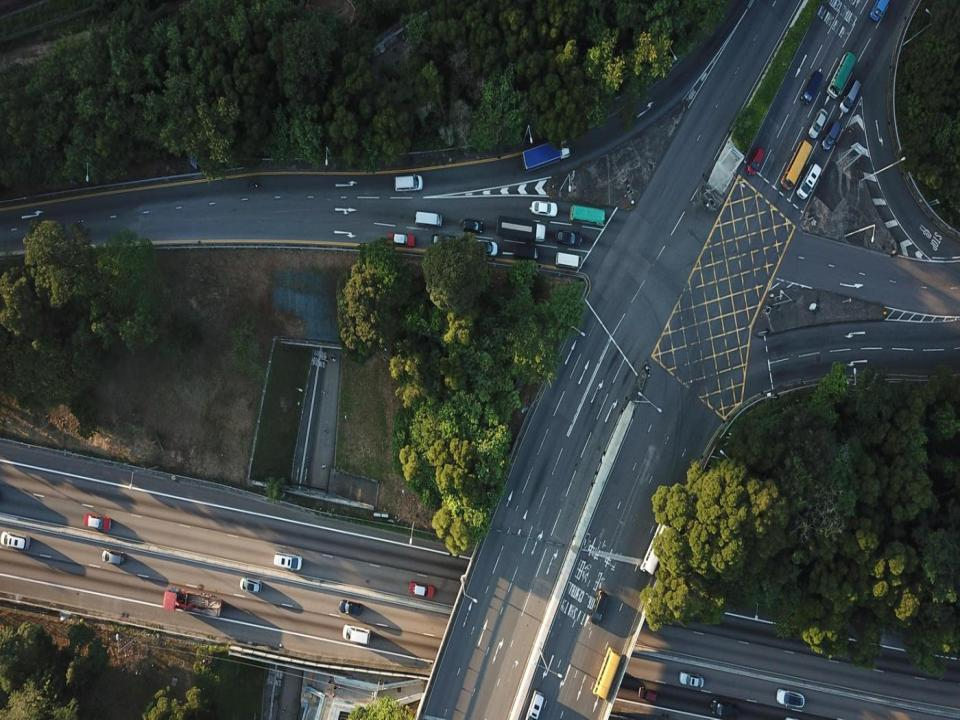bus: (781, 140, 813, 191), (826, 51, 856, 99), (592, 647, 619, 700), (568, 206, 605, 226)
car: (710, 698, 738, 719), (776, 688, 805, 708), (0, 531, 30, 550), (84, 512, 112, 532), (808, 109, 828, 137), (409, 580, 435, 600), (555, 229, 582, 248), (531, 199, 557, 218), (472, 240, 499, 257), (747, 149, 764, 176), (388, 232, 414, 248), (239, 577, 262, 594), (679, 672, 704, 687), (339, 600, 362, 616), (102, 551, 126, 566), (430, 234, 458, 246), (638, 686, 658, 702), (464, 220, 484, 234)
truck: (163, 588, 222, 618), (640, 522, 672, 576), (521, 139, 570, 173), (497, 215, 545, 242), (871, 0, 886, 21)
van: (797, 164, 821, 200), (800, 70, 823, 105), (839, 81, 862, 114), (343, 624, 371, 645), (274, 552, 303, 572), (555, 250, 583, 270), (590, 590, 606, 624), (526, 690, 544, 718), (822, 121, 840, 149), (394, 174, 422, 191), (415, 212, 442, 227), (515, 245, 538, 258)
